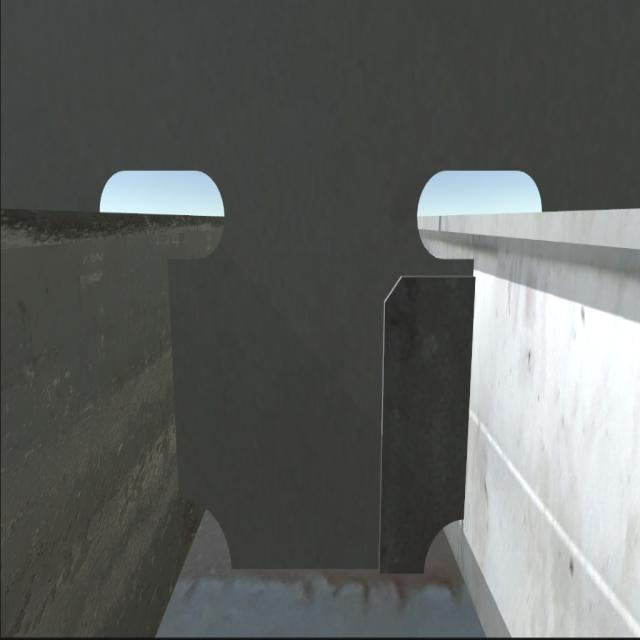fillet_hole: (182, 493, 236, 575), (416, 513, 464, 579)
fillet_yong_jeop_jang: (222, 560, 430, 587)
longi_yong_jeop_jang: (163, 255, 185, 510), (460, 250, 474, 524)
plate_CP03: (381, 278, 468, 580)
